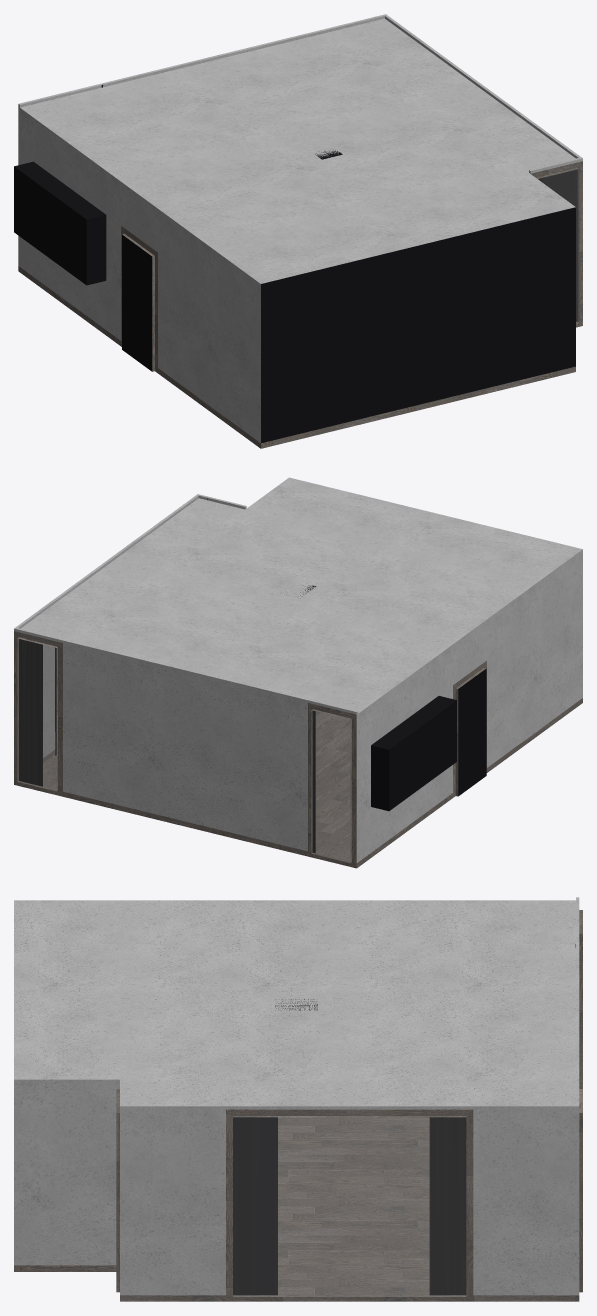
File: Room.obj
3 renders of one model, top to bottom at view 1: azimuth 30°, elevation 25°; view 2: azimuth 150°, elevation 25°; view 3: azimuth 270°, elevation 25°, orthographic. The views are drawn at different scales.
Parts seen in each view (by area): view 1: Room; view 2: Room; view 3: Room.
Part boxes in pixels (x1,y1,x2,y2): Room: (14,14,582,448); Room: (14,477,582,868); Room: (14,897,582,1301).
Size of the model in its own units: 7.42 by 3.05 by 8.05.
7 materials, 3 textured.
